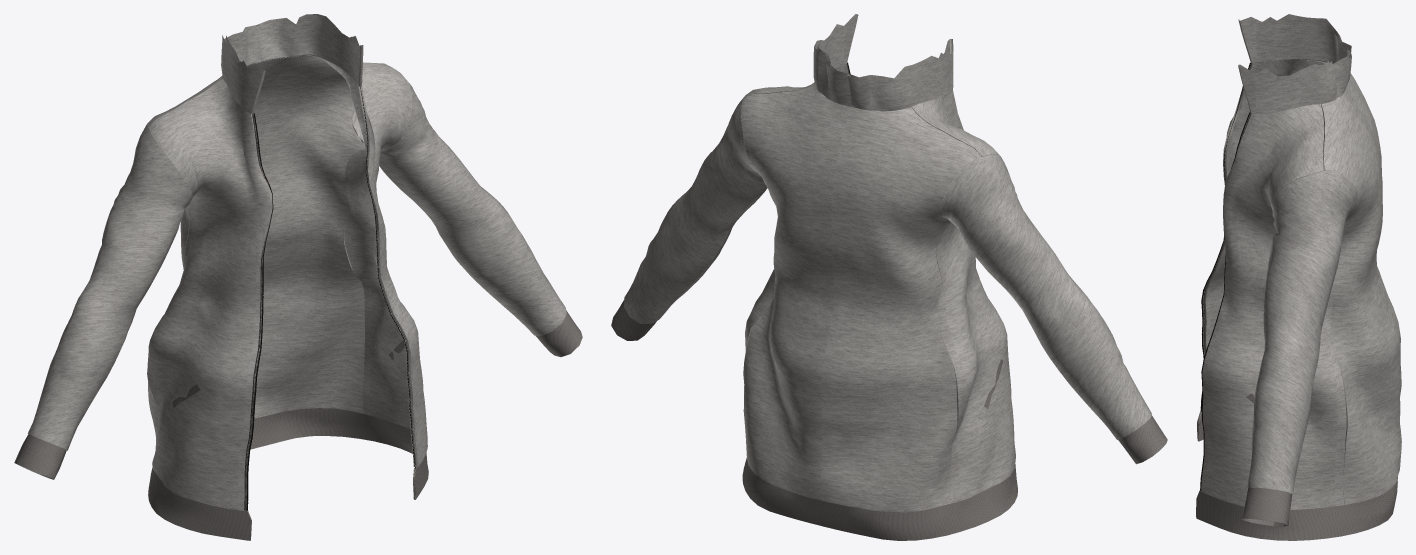
The model's file is hoodie.glb.
3 renders of one model, left to right at view 1: azimuth 30°, elevation 25°; view 2: azimuth 150°, elevation 25°; view 3: azimuth 270°, elevation 25°, orthographic. The views are drawn at different scales.
Parts seen in each view (by area): view 1: hoodie; view 2: hoodie; view 3: hoodie.
Part boxes in pixels (x1=…): hoodie: x1=14, y1=14, x2=582, y2=540; hoodie: x1=611, y1=14, x2=1167, y2=540; hoodie: x1=1196, y1=14, x2=1401, y2=540.
Size of the model in its own units: 1.08 by 0.8414 by 0.3516.
3 materials, 3 textured.
